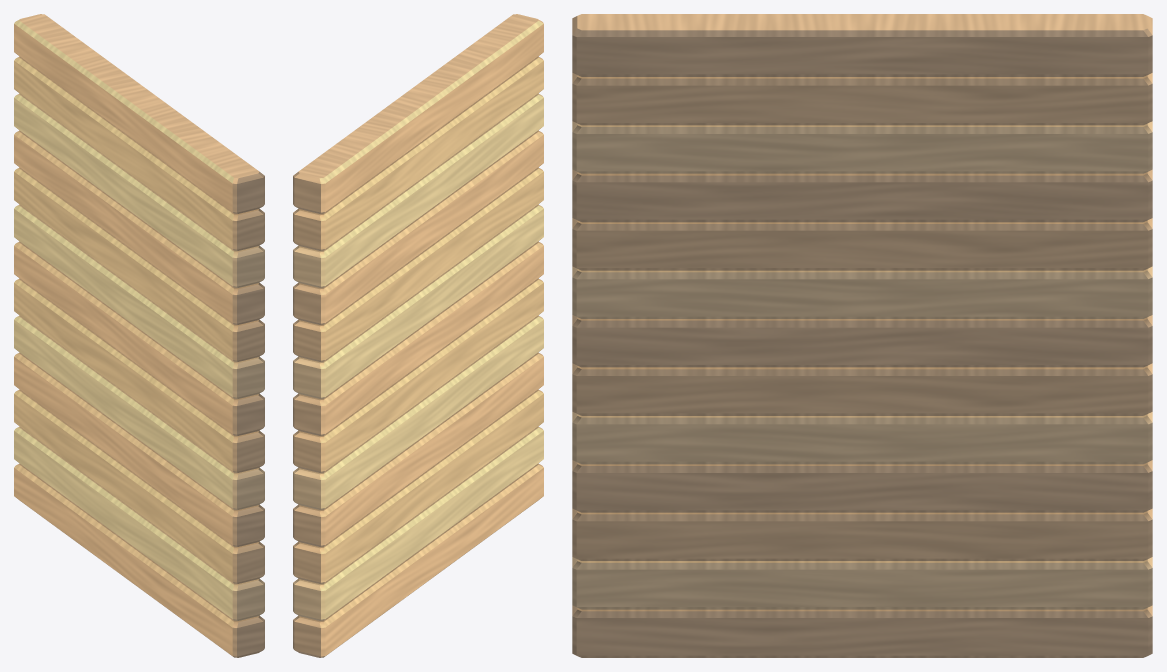
File: interior_annex_wall.glb
The picture shows the model from 3 angles, left to right: view 1: azimuth 30°, elevation 25°; view 2: azimuth 150°, elevation 25°; view 3: azimuth 270°, elevation 25°; orthographic projection. The views are drawn at different scales.
Parts seen in each view (by area): view 1: Hütte · Verschlossene Seitenwand; view 2: Hütte · Verschlossene Seitenwand; view 3: Hütte · Verschlossene Seitenwand.
Part boxes in pixels (bbox=[...]): Hütte · Verschlossene Seitenwand: bbox=[14, 14, 264, 657]; Hütte · Verschlossene Seitenwand: bbox=[293, 14, 543, 657]; Hütte · Verschlossene Seitenwand: bbox=[572, 14, 1152, 657].
Bounding box in the file's own units: 0.18 × 2.55 × 2.14.
Materials: 1 (1 with a texture image).
